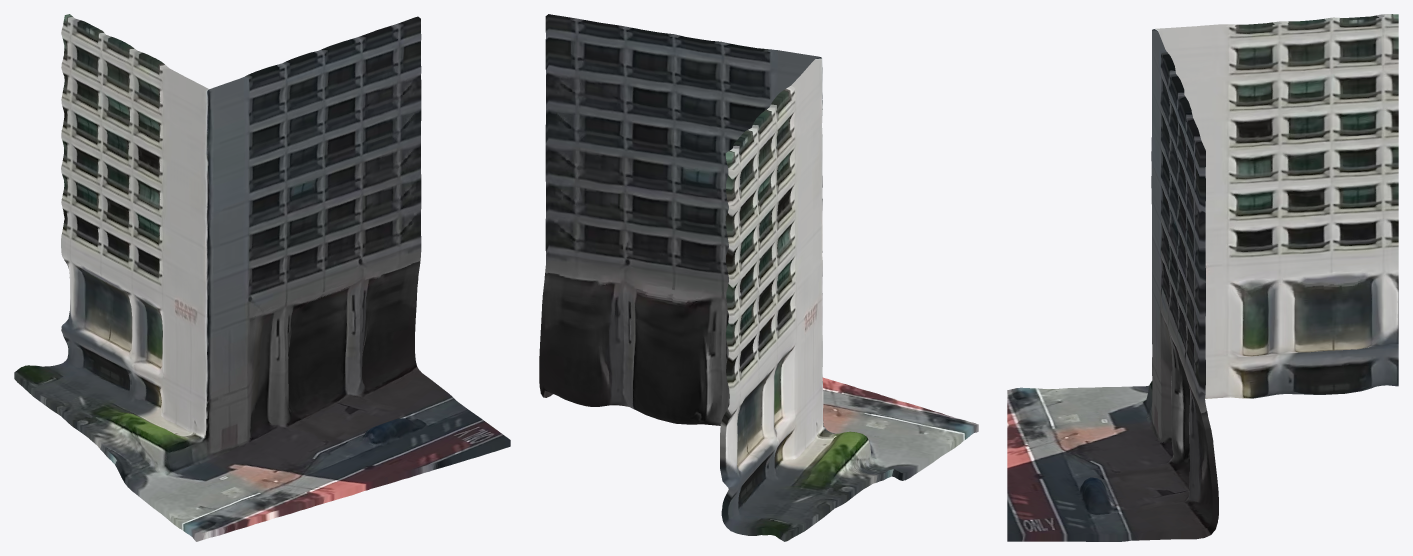
Rendered from z20-167751-405244-h0-yup-uvflip-v3-world.glb.
3 views of the same model, side by side, from view 1: azimuth 30°, elevation 25°; view 2: azimuth 150°, elevation 25°; view 3: azimuth 270°, elevation 25° (orthographic). The views are drawn at different scales.
Size of the model in its own units: 30.16 by 34.96 by 30.32.
Materials: 1 (1 with a texture image).
